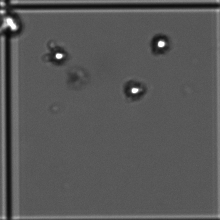Dead Cell: (66, 67, 87, 88)
Living Cell: (1, 15, 27, 41), (152, 34, 170, 53), (127, 83, 144, 99), (49, 49, 67, 64)
